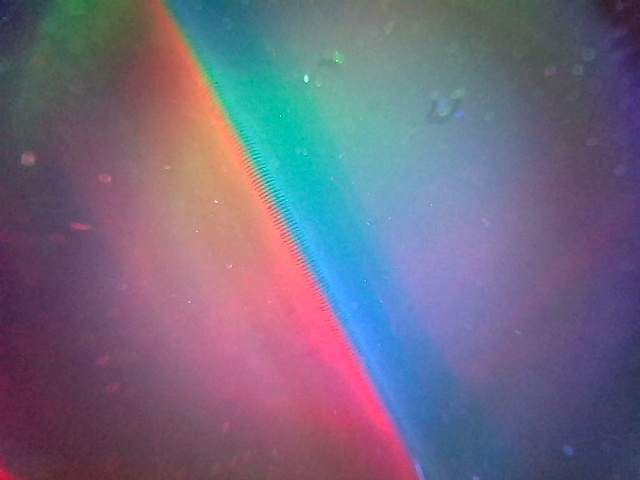contact: (156, 1, 423, 478)
